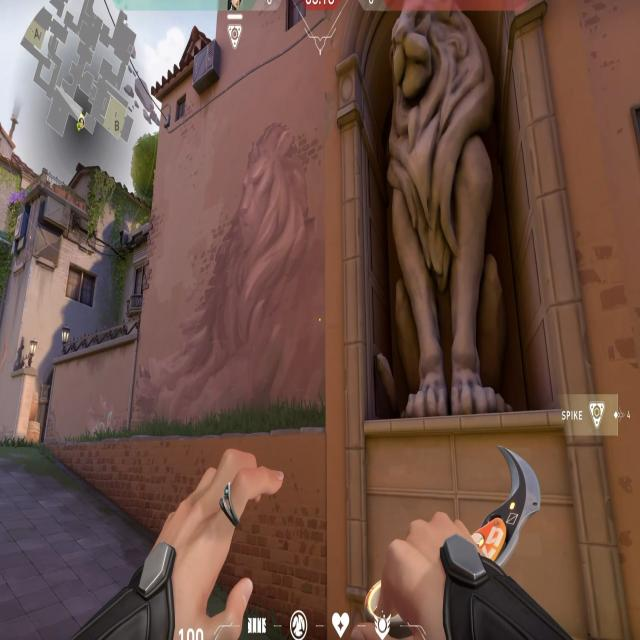Lion_Corner: (336, 0, 597, 464)
